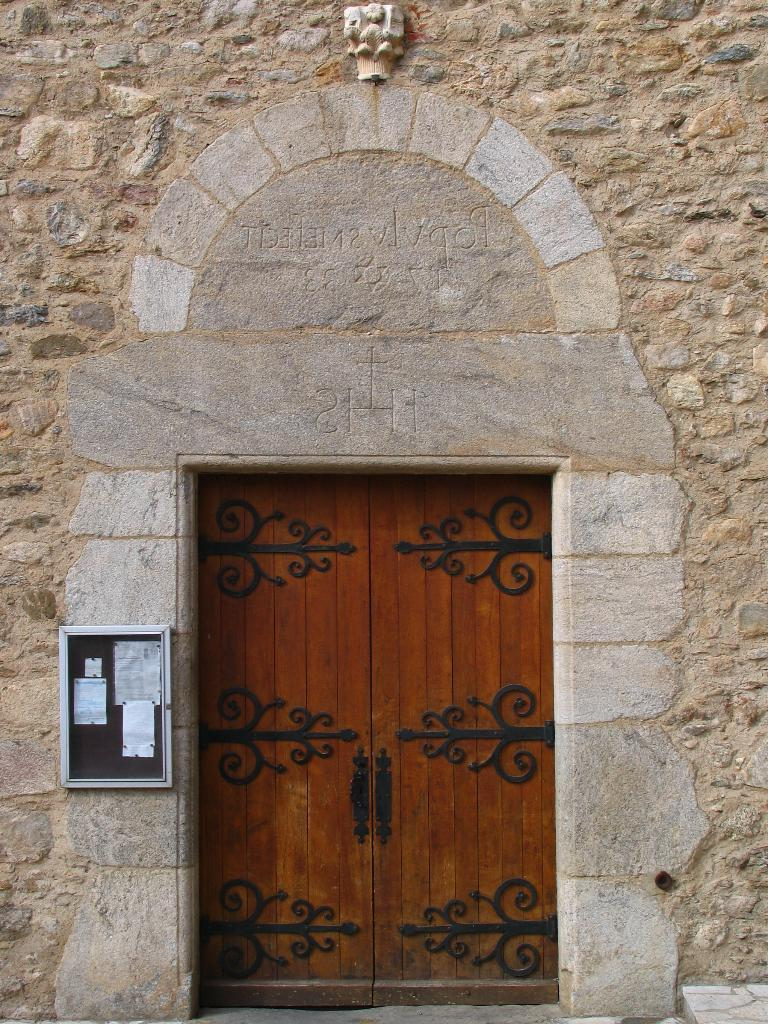door: (376, 481, 546, 990), (201, 475, 368, 988)
handle: (350, 761, 366, 816)
